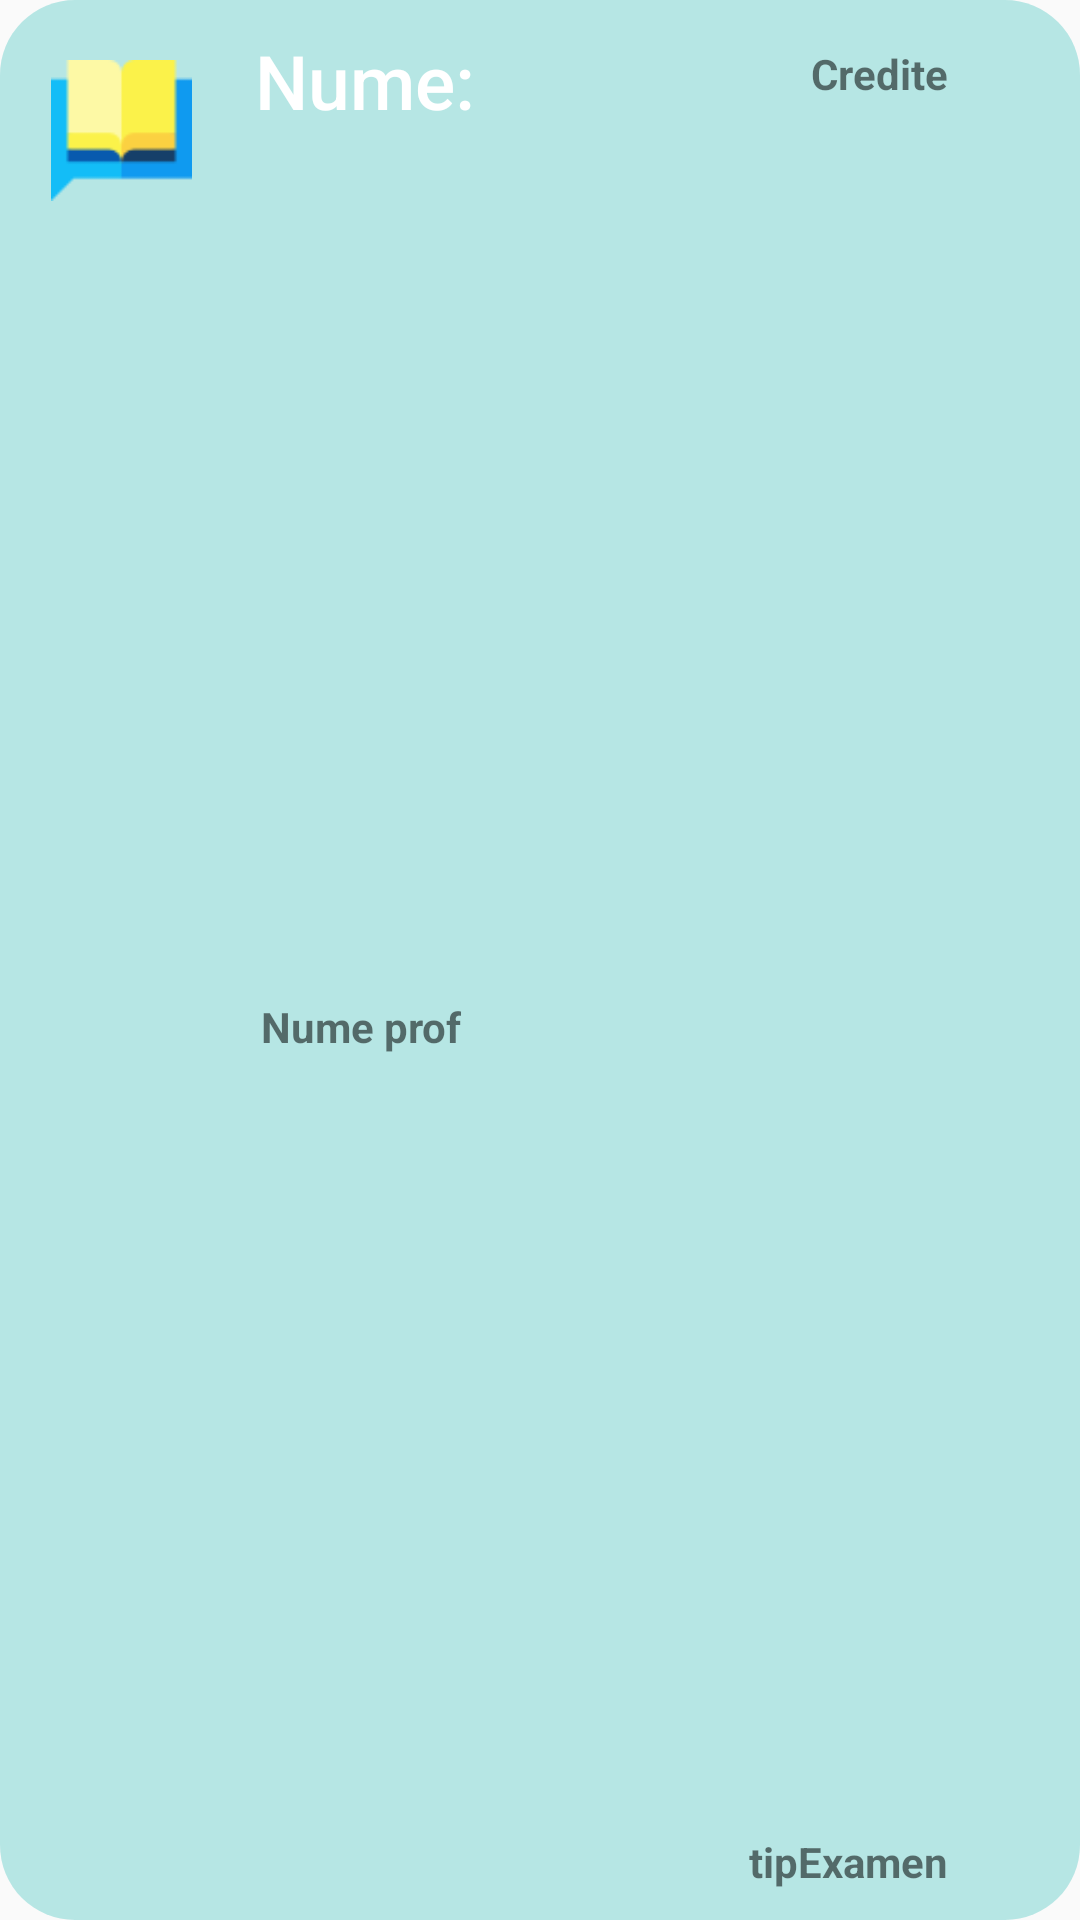

Icons on this 1080w x 1920h Android screen, each with the point to tap as point (x, y):
subject: point (121, 130)
